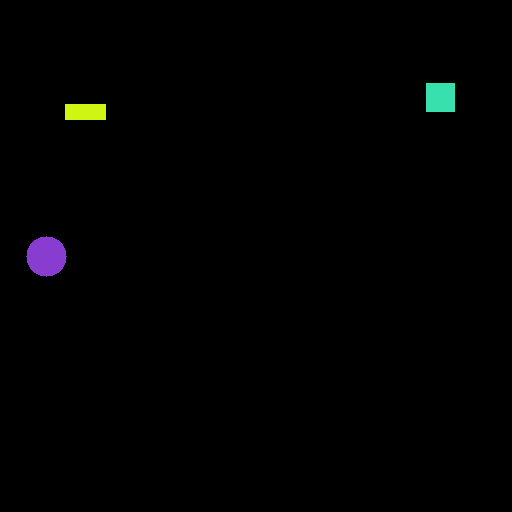circle: (24, 235, 66, 277)
side_rect: (63, 102, 107, 121)
square: (422, 79, 460, 117)
